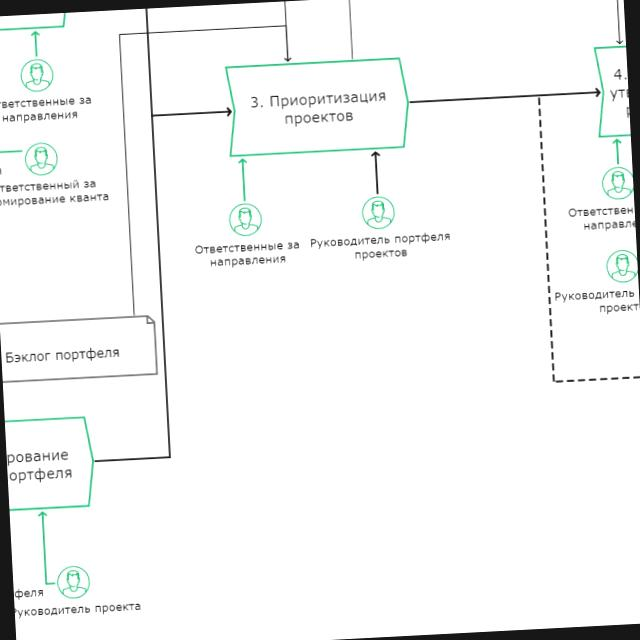arrow: (408, 85, 601, 108), (32, 509, 56, 592), (232, 154, 254, 206), (367, 150, 387, 194)
circle: (229, 203, 262, 236), (57, 566, 90, 598), (21, 59, 53, 92), (362, 197, 394, 229), (25, 143, 57, 175), (602, 166, 633, 199), (606, 250, 637, 282)
rectangle: (224, 55, 412, 161)
